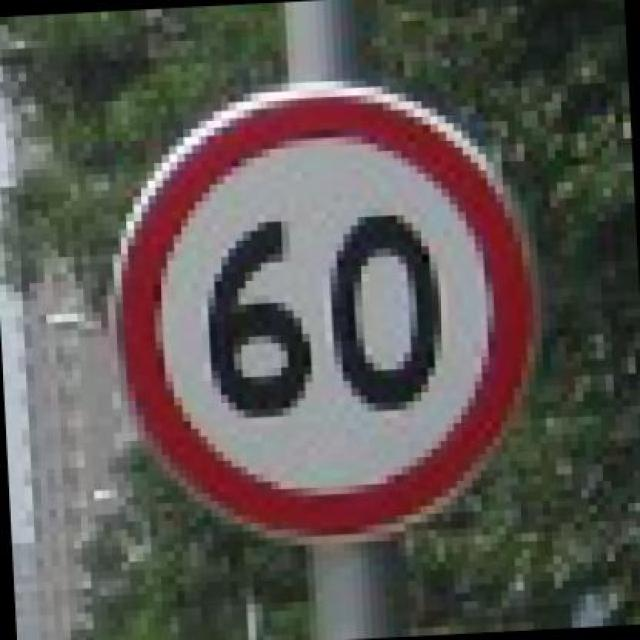Limite-60: (112, 79, 543, 541)
